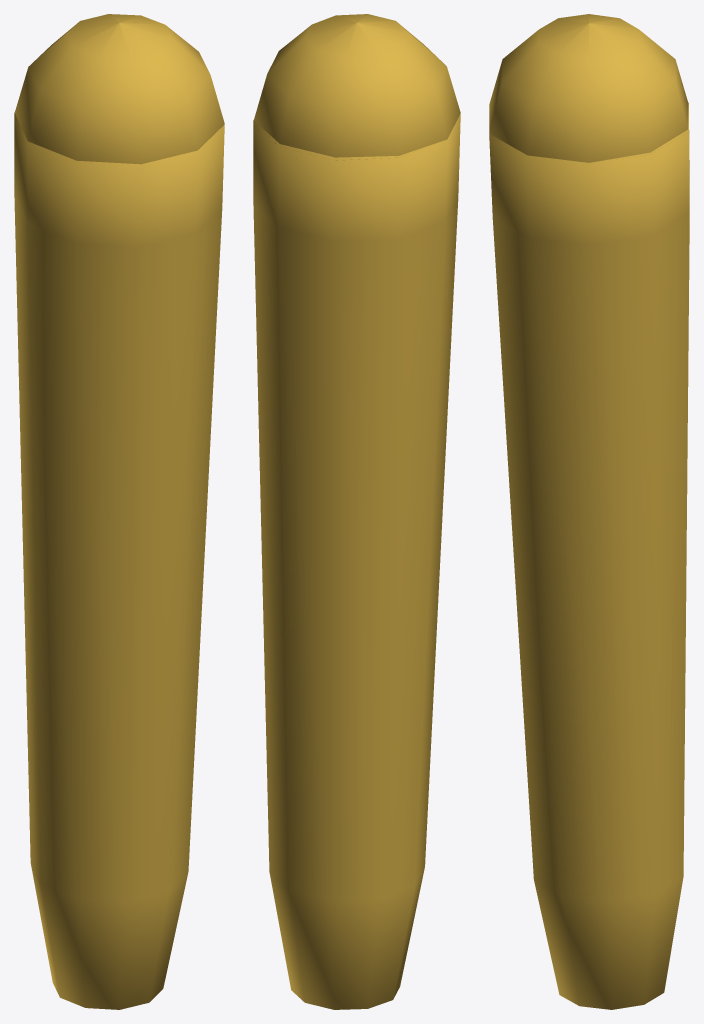
The model's file is shin_R.obj.
3 renders of one model, left to right at view 1: azimuth 30°, elevation 25°; view 2: azimuth 150°, elevation 25°; view 3: azimuth 270°, elevation 25°, orthographic.
Visible parts, largest first — view 1: shin_R; view 2: shin_R; view 3: shin_R.
Part boxes in pixels (x1,y1,x2,y2): shin_R: (14, 14, 224, 1009); shin_R: (253, 14, 460, 1009); shin_R: (489, 14, 689, 1009).
Size of the model in its own units: 0.0658 by 0.3382 by 0.0629.
